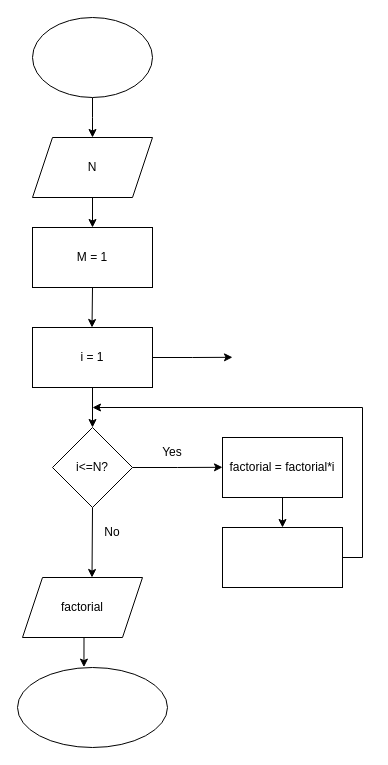
The diagram is 388 pixels wide and 765 high, and some of its shapes have lost their labels. The shapes that lost their labels are listed below. From the top down, each one's box as (x1, y1, x2, y2) in pixels, then its label:
(32, 16, 152, 98): Начало
(222, 526, 342, 588): i = i+1
(16, 666, 168, 748): Конец
